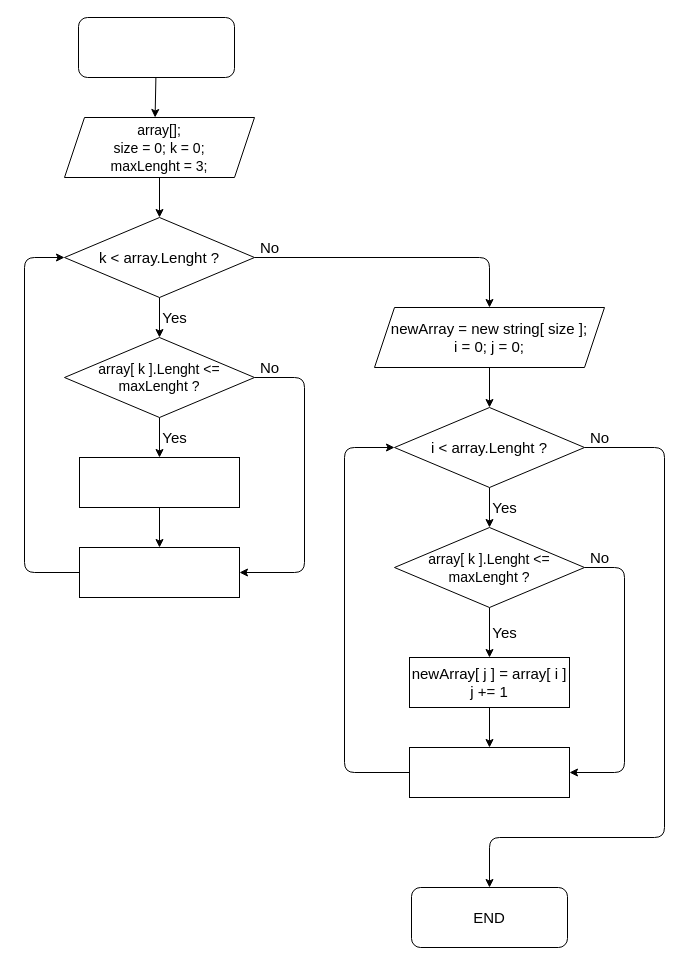
This 690x965 diagram has some shape labels left out. The shapes that lost their labels are listed below. From the top down, each one's box as (x1, y1, x2, y2) in pixels, then its label:
(78, 16, 234, 78): START
(78, 456, 240, 508): size += 1
(78, 546, 240, 598): k += 1
(408, 746, 570, 798): i += 1
